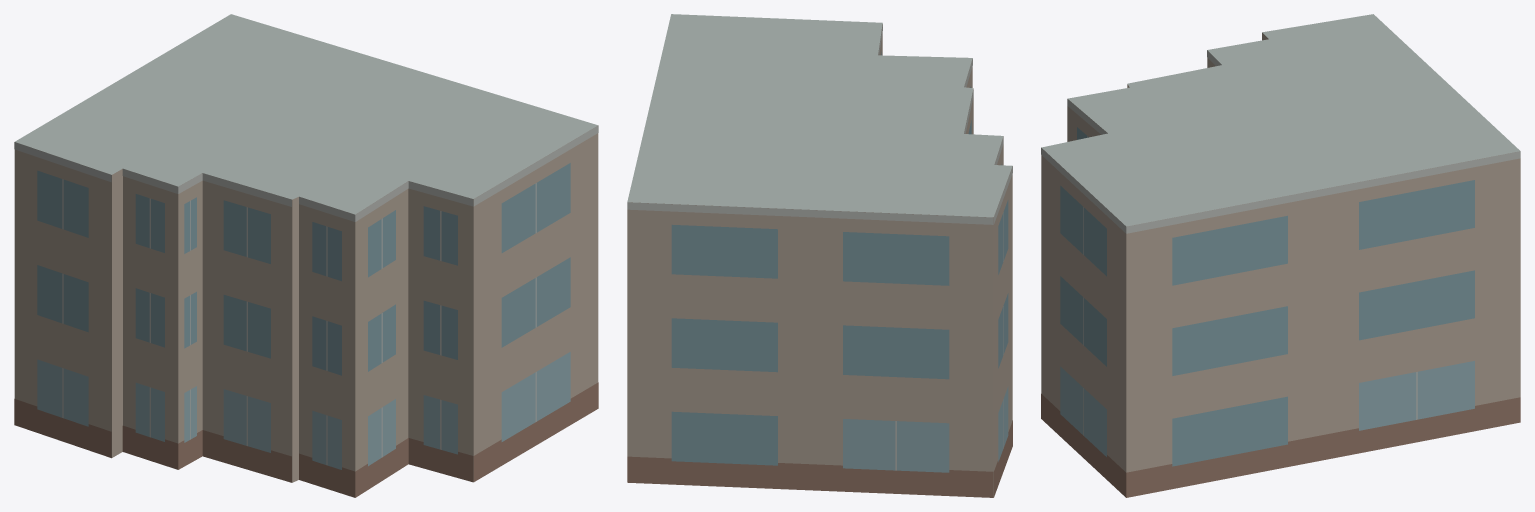
Rendered from survey-upis-32714113.glb.
3 views of the same model, side by side, from view 1: azimuth 30°, elevation 25°; view 2: azimuth 150°, elevation 25°; view 3: azimuth 270°, elevation 25° (orthographic). The views are drawn at different scales.
Visible parts, largest first — view 1: survey-upis-32714113.tmp; view 2: survey-upis-32714113.tmp; view 3: survey-upis-32714113.tmp.
Boxes of the visible parts, left/top/right/bottom form: survey-upis-32714113.tmp: left=14, top=14, right=598, bottom=497; survey-upis-32714113.tmp: left=627, top=14, right=1012, bottom=497; survey-upis-32714113.tmp: left=1041, top=14, right=1520, bottom=497.
Size of the model in its own units: 15.39 by 9.15 by 14.66.
